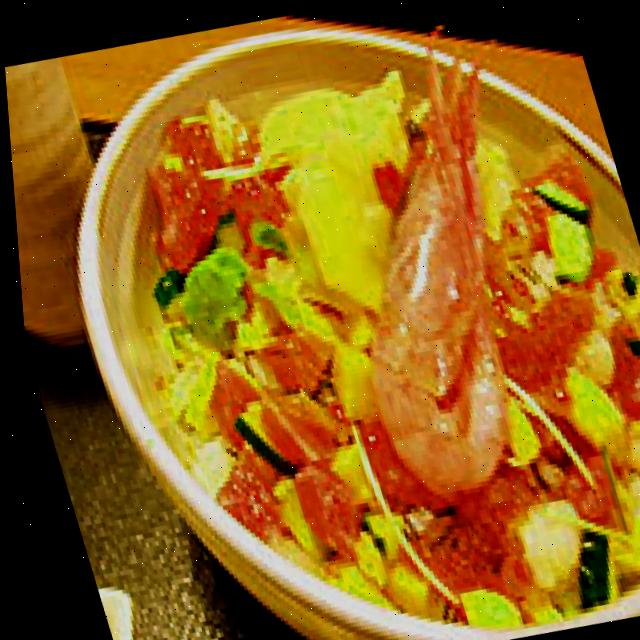寿司卷物: (1, 0, 640, 640)
